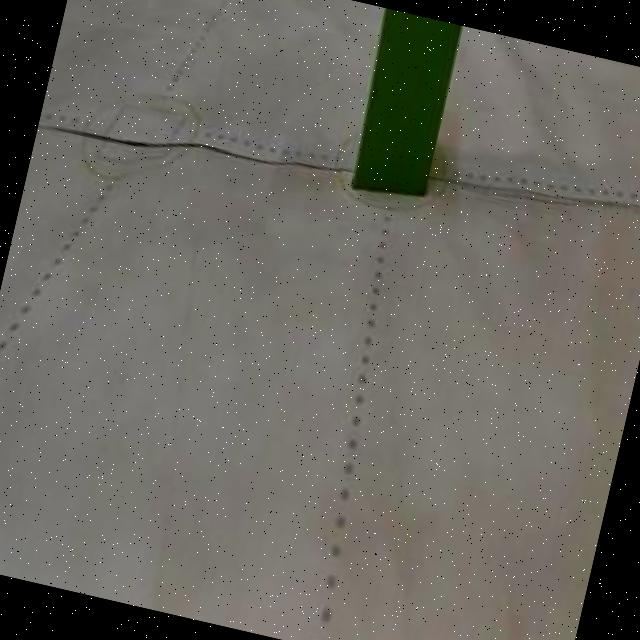greenbox: (338, 6, 472, 213)
